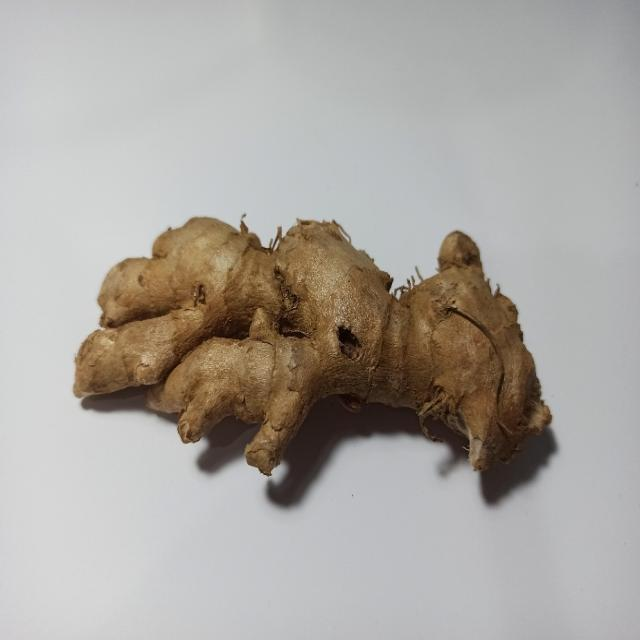ginger: (76, 212, 554, 478)
